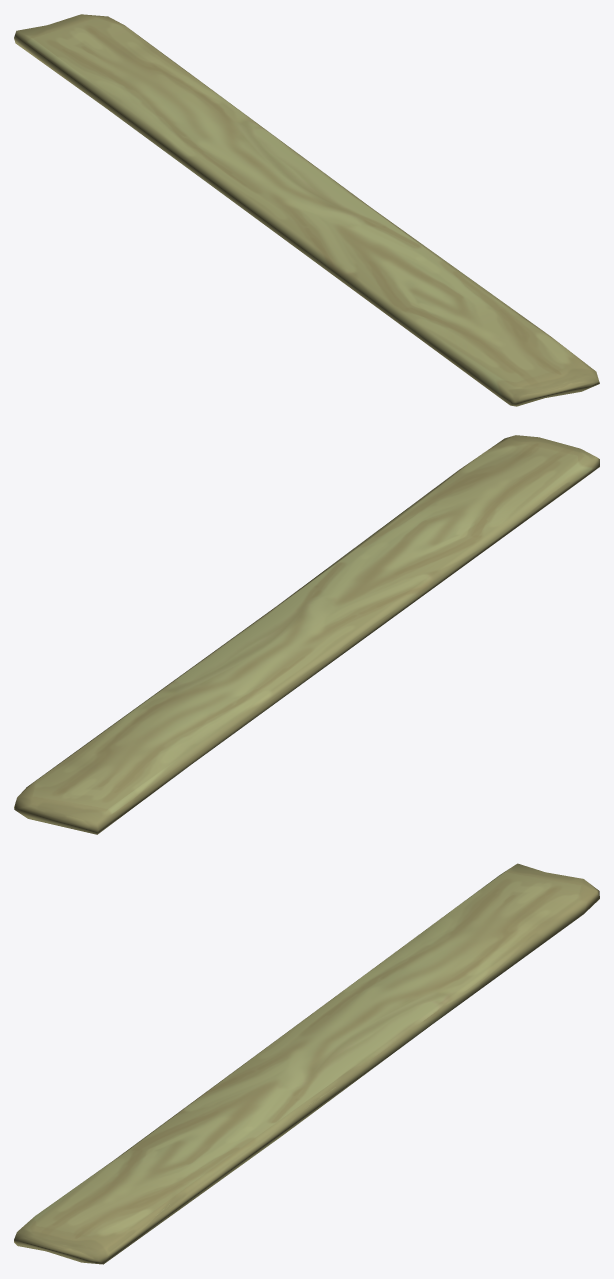
Rendered from woodplank_long.fbx.
3 views of the same model, one above another, from view 1: azimuth 30°, elevation 25°; view 2: azimuth 150°, elevation 25°; view 3: azimuth 330°, elevation 25° (orthographic).
Parts seen in each view (by area): view 1: Cube; view 2: Cube; view 3: Cube.
Boxes of the visible parts, x1=… form: Cube: x1=14, y1=14, x2=599, y2=406; Cube: x1=14, y1=435, x2=599, y2=834; Cube: x1=14, y1=863, x2=599, y2=1264.
Bounding box in the file's own units: 1661 × 175 × 32.36.
Materials: 1 (1 with a texture image).
